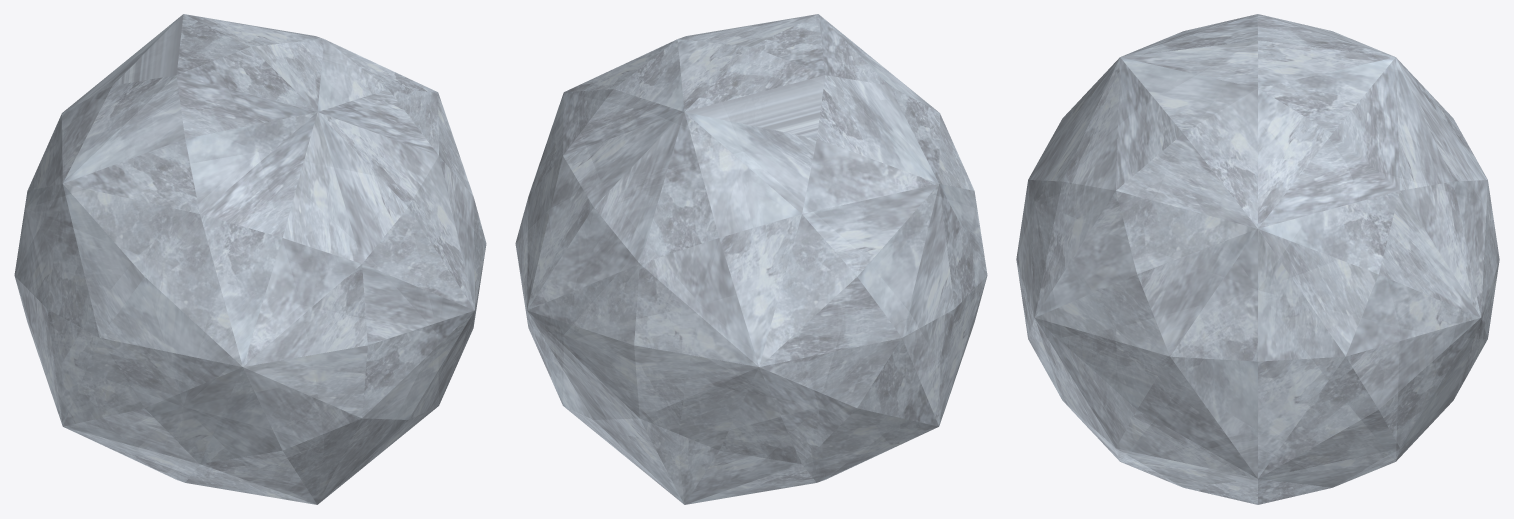
File: DisdyakisTriacontahedron.obj
3 renders of one model, left to right at view 1: azimuth 30°, elevation 25°; view 2: azimuth 150°, elevation 25°; view 3: azimuth 270°, elevation 25°, orthographic. The views are drawn at different scales.
Bounding box in the file's own units: 7.61 × 7.61 × 7.61.
1 material, 1 textured.
